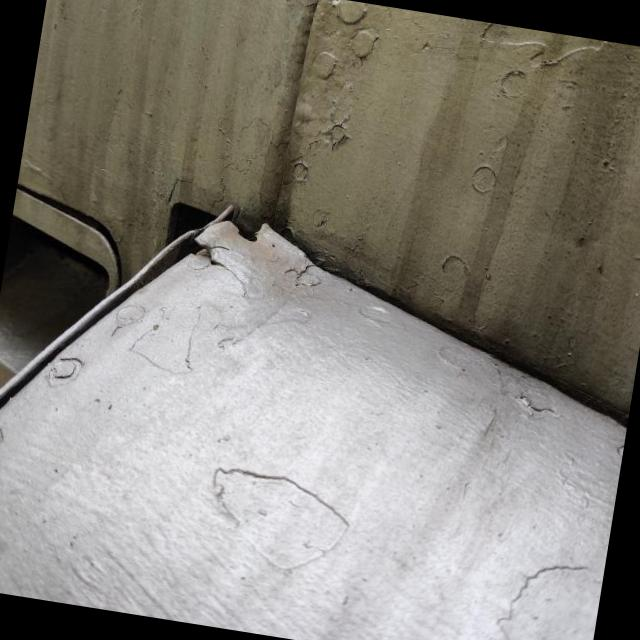Crack: (187, 225, 257, 303)
